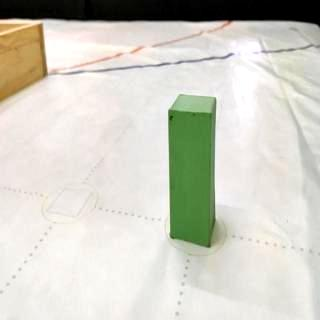greenbox: (170, 90, 217, 248)
